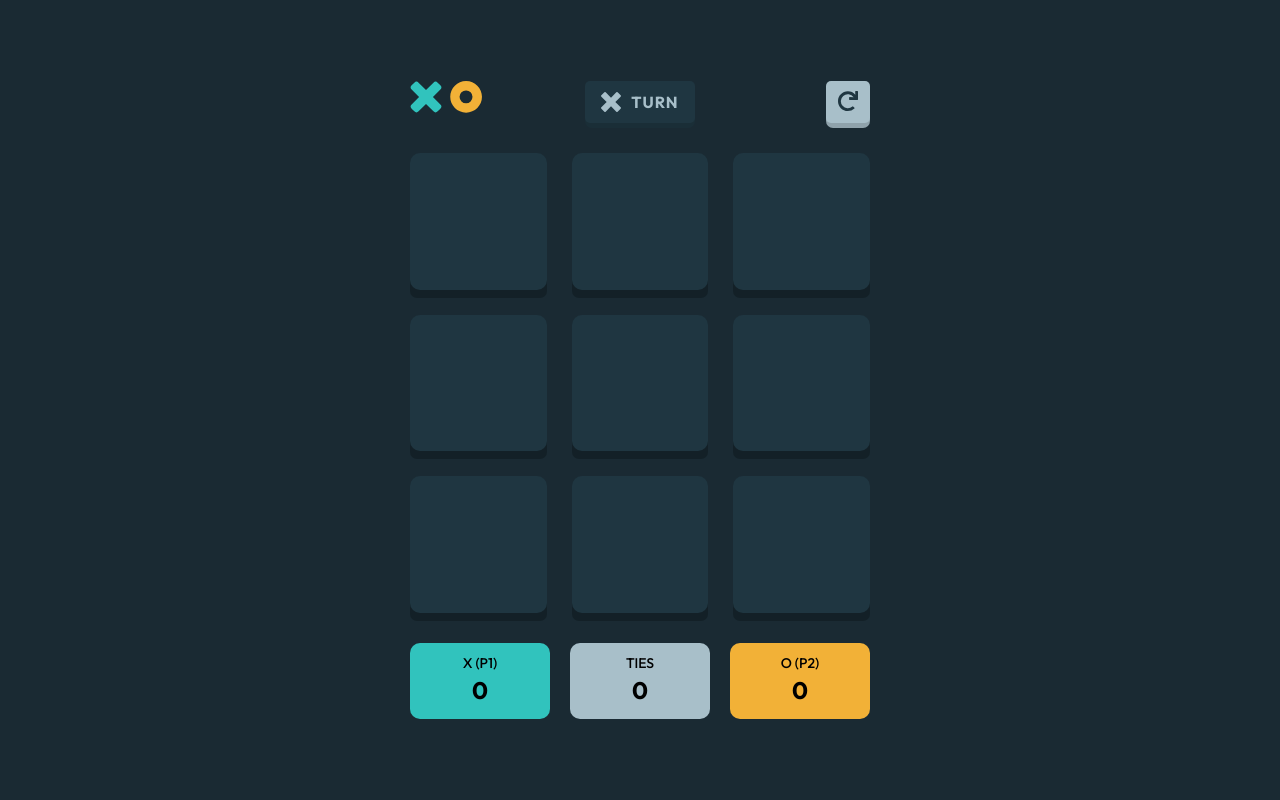
Test: Reset the game mid-match › click reset button, reset modal pops up
Click the button with test id "resetGameButton" at (848, 102), box [826,81,870,123]
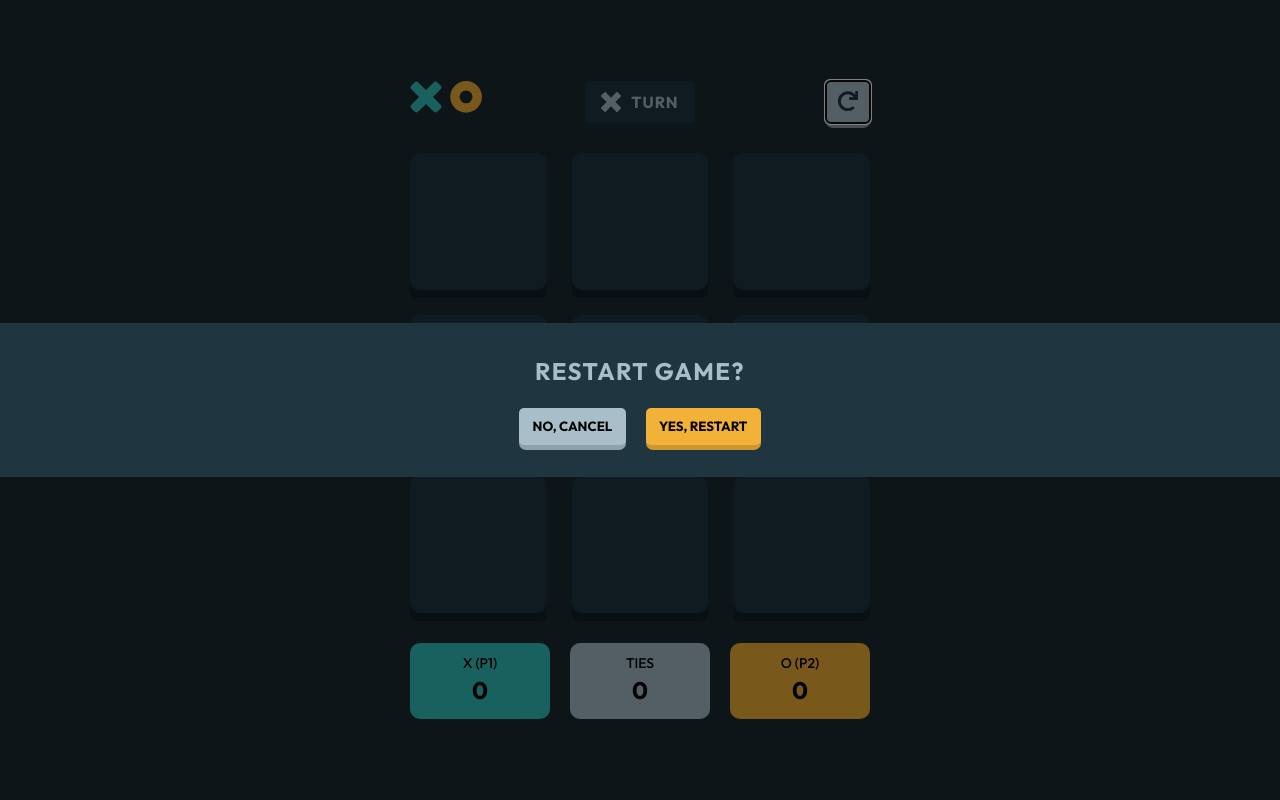
Expected: the element with test id "gameModal" is shown
